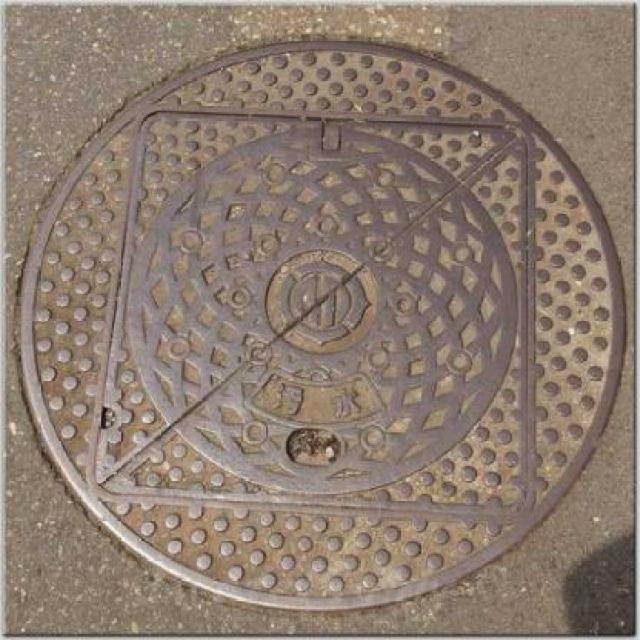Manhole: (15, 29, 628, 614)
